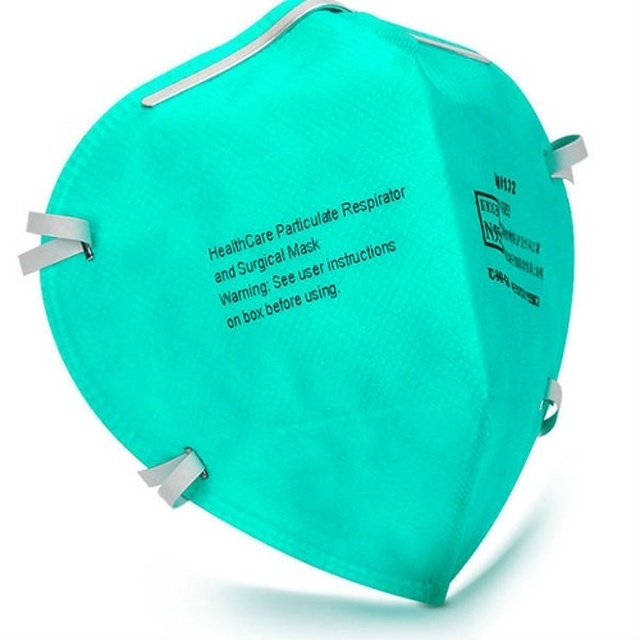mask: (22, 1, 586, 612)
